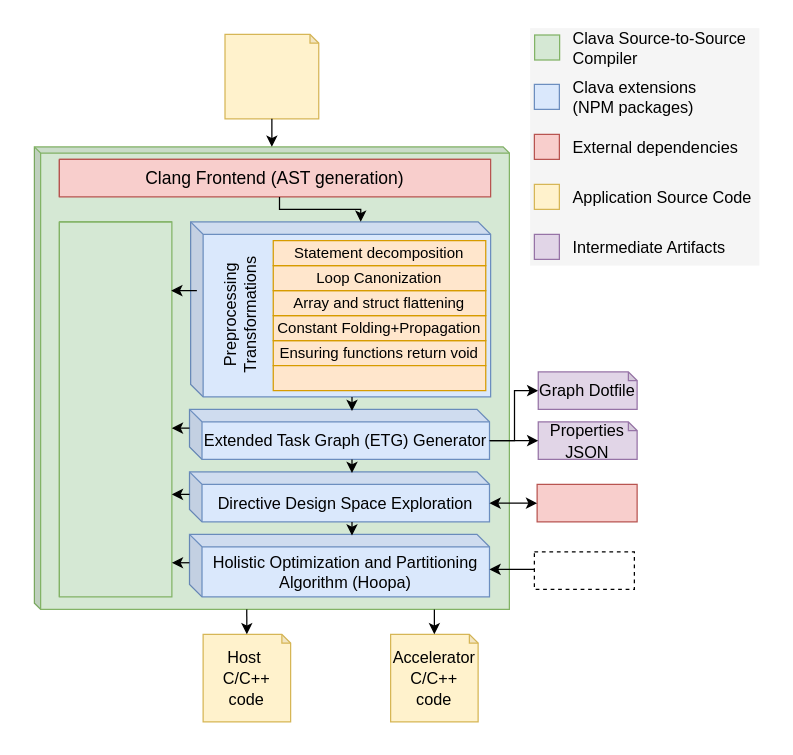
The diagram is 793 pixels wide and 755 high, and some of its shapes have lost their labels. Here are the shapes that lost their labels. From the top down, the centre of each, then its label:
At (271,76): "C/C++ Application Code".
At (379,377): "Outlining code regions".
At (115,409): "Clava API (AST manipulation)".
At (586,502): "Vitis HLS".
At (583,570): "Target Properties".
